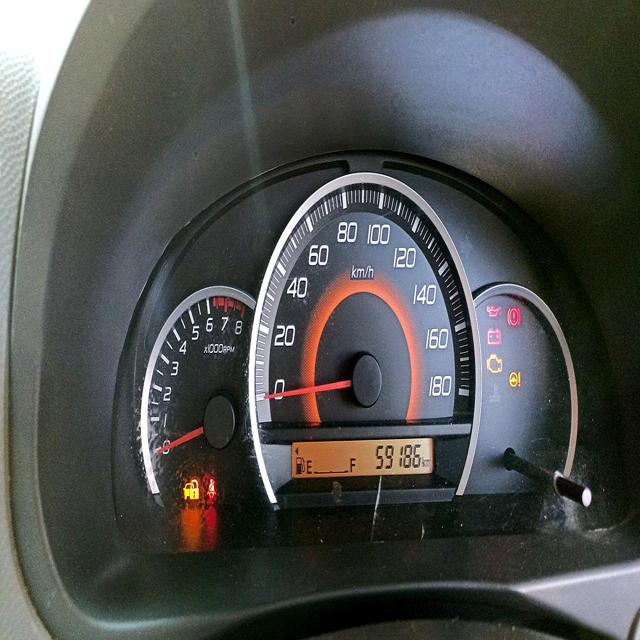odometer: (373, 440, 426, 476)
